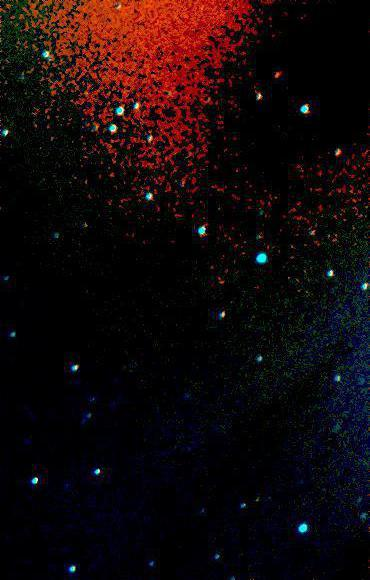star: (241, 484, 271, 514)
